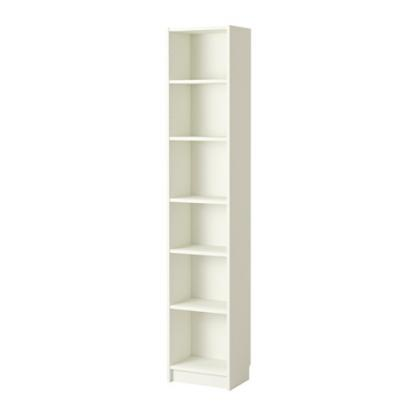Cabinet: (162, 23, 256, 392)
